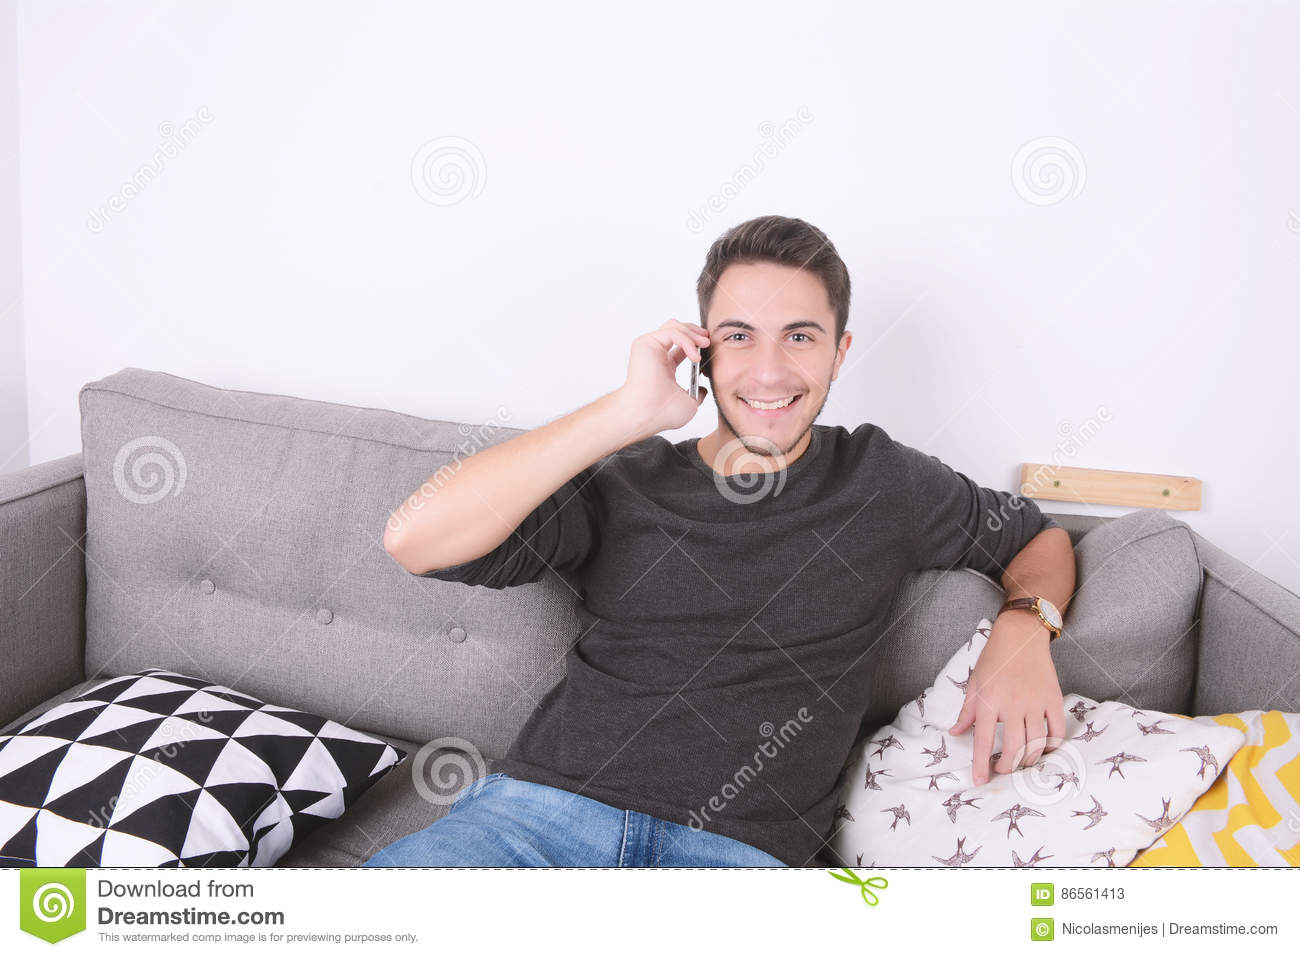phone: (688, 331, 707, 403)
talk: (621, 317, 829, 461)
